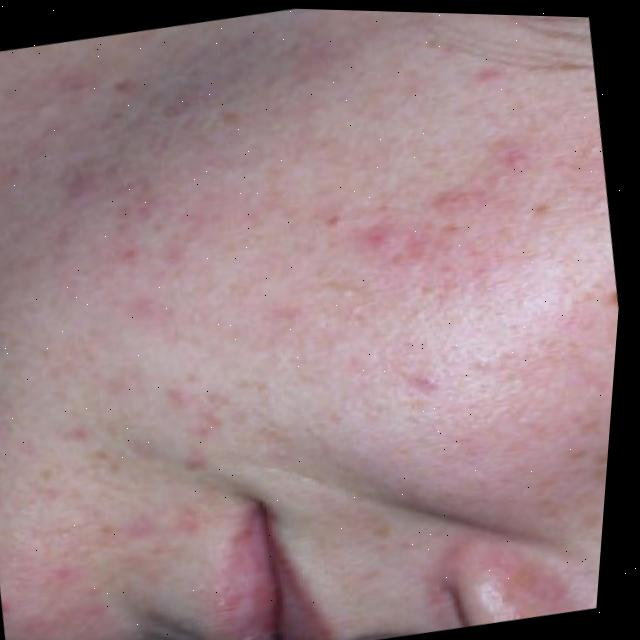Acne: (239, 121, 632, 574)
